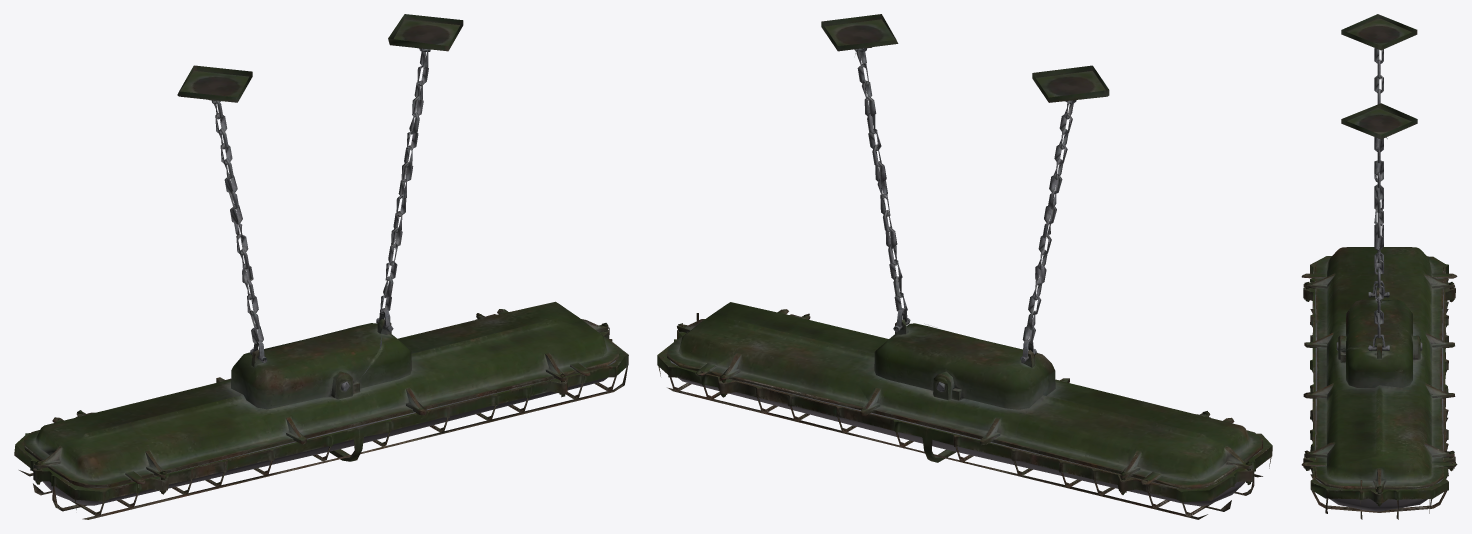
The model's file is caged_hanging_light.glb.
3 renders of one model, left to right at view 1: azimuth 30°, elevation 25°; view 2: azimuth 150°, elevation 25°; view 3: azimuth 270°, elevation 25°, orthographic. The views are drawn at different scales.
Visible parts, largest first — view 1: caged_hanging_light; view 2: caged_hanging_light; view 3: caged_hanging_light.
Boxes of the visible parts, x1=… form: caged_hanging_light: x1=14, y1=14, x2=628, y2=519; caged_hanging_light: x1=657, y1=14, x2=1272, y2=519; caged_hanging_light: x1=1301, y1=14, x2=1457, y2=519.
Size of the model in its own units: 1.16 by 0.7501 by 0.3149.
1 material, 1 textured.
